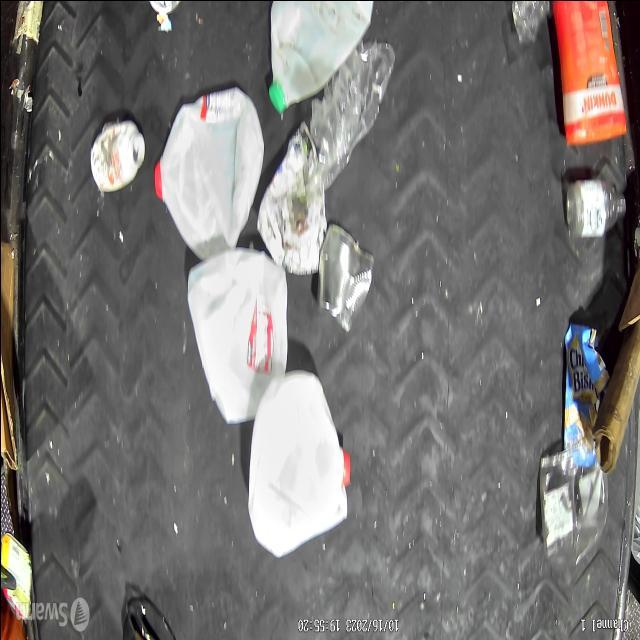can: (316, 218, 372, 344), (82, 112, 144, 198)
milk_jug: (246, 372, 352, 566), (185, 245, 293, 430), (154, 79, 264, 258), (258, 0, 370, 118)
non_white_jug: (550, 0, 629, 153)
plastic_bottle: (306, 44, 394, 195)
